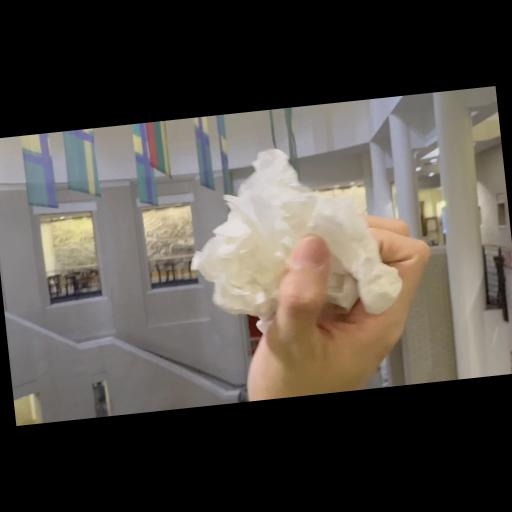napkin: (185, 134, 411, 334)
